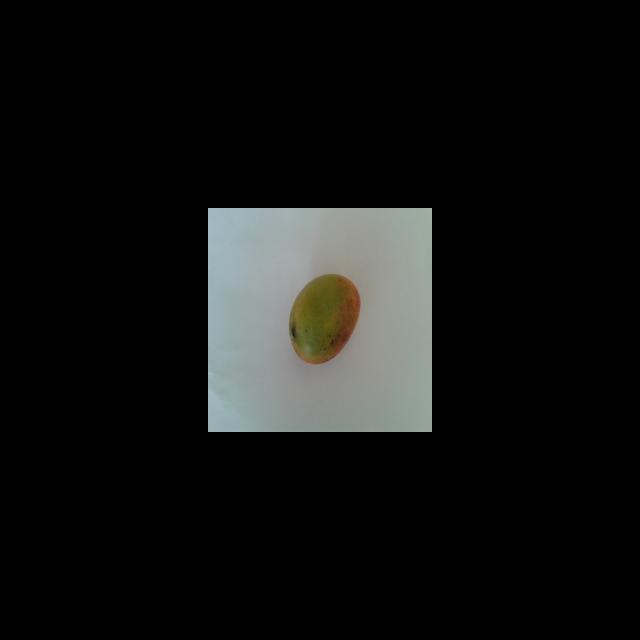Mango: (288, 273, 360, 364)
